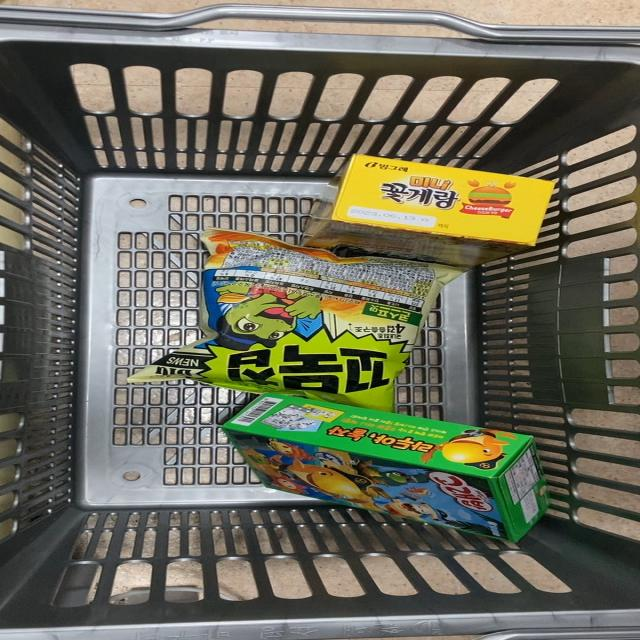ggobukchip: (152, 237, 443, 404)
goraebob: (232, 390, 562, 534)
minicrab: (325, 152, 562, 259)
